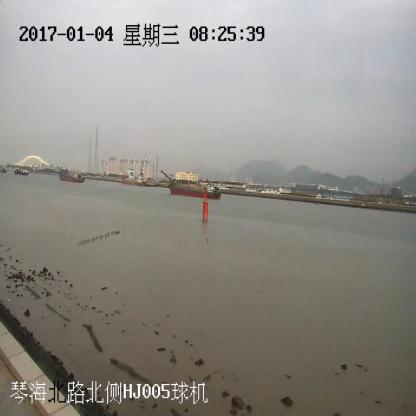Bulk Carrier: (162, 170, 220, 199), (57, 168, 84, 184)
